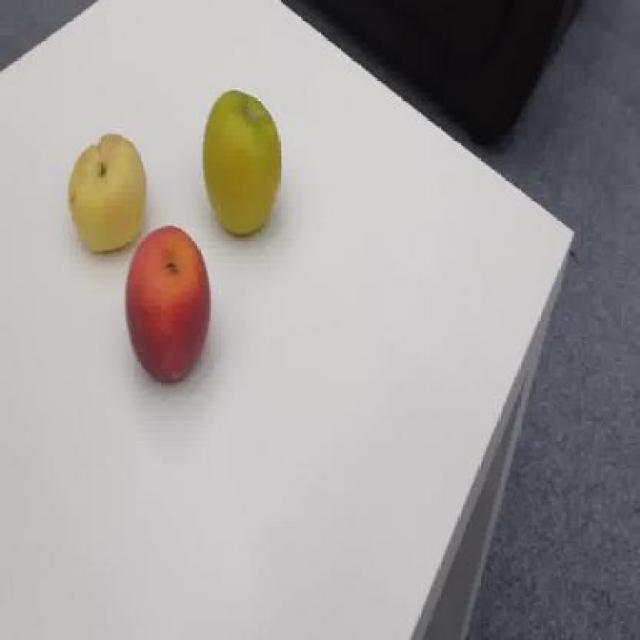Fresh Apple: (190, 89, 290, 241), (123, 234, 217, 378), (48, 132, 152, 256)
